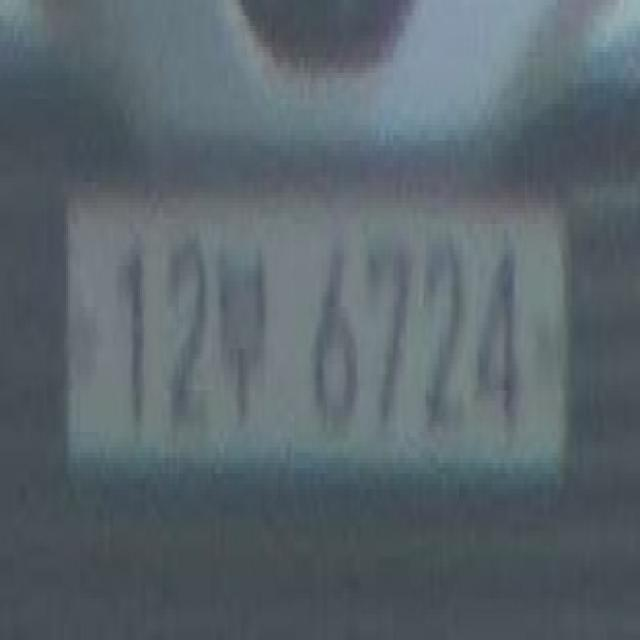1: (111, 223, 154, 452)
2: (414, 218, 473, 448), (163, 229, 214, 453)
4: (473, 229, 531, 453)
6: (305, 229, 362, 442)
7: (360, 229, 412, 453)
bu: (214, 245, 274, 437)
license_plate: (54, 162, 578, 526)
